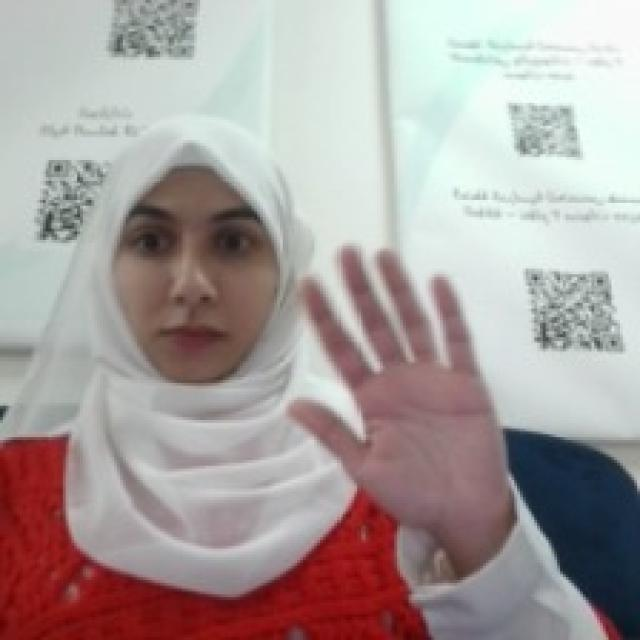Hello: (283, 228, 503, 528)
